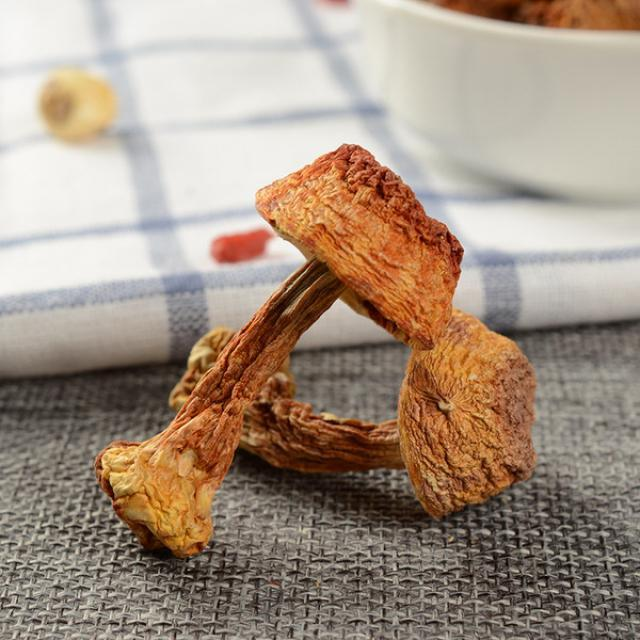Agaricus blazei Murill: (99, 146, 458, 553), (174, 303, 539, 511)
